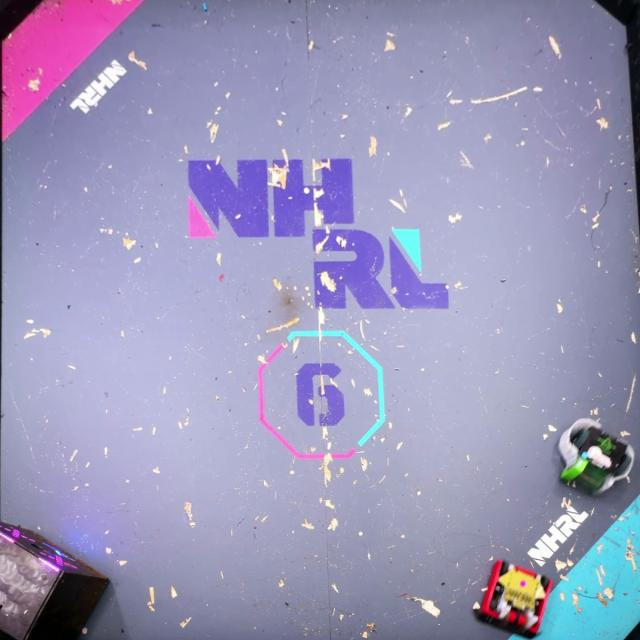housebot: (0, 518, 112, 640)
robot: (476, 556, 553, 640), (557, 418, 637, 496)
